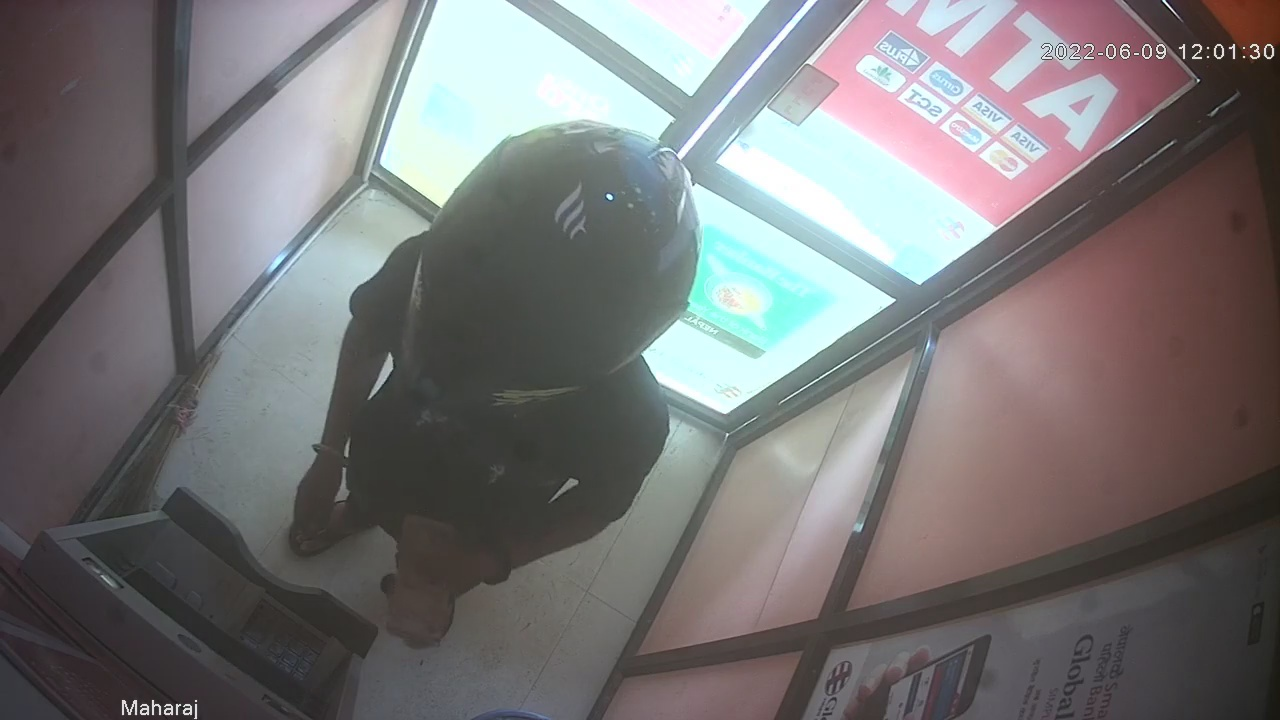helmet: (395, 119, 698, 416)
person: (286, 118, 699, 648)
